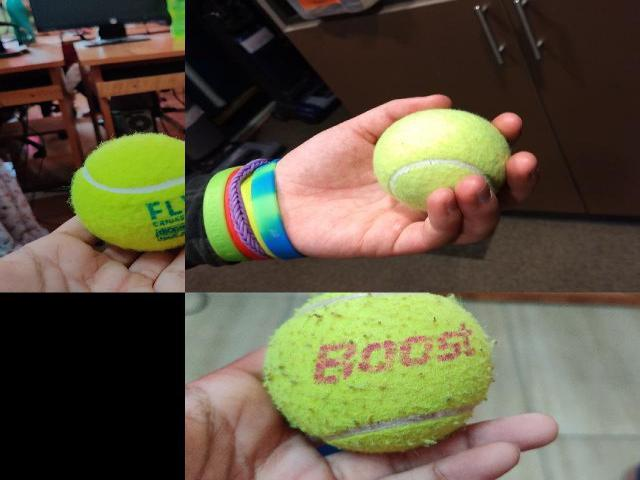tennis-ball: (262, 292, 492, 452), (372, 107, 511, 214), (70, 133, 184, 251)
